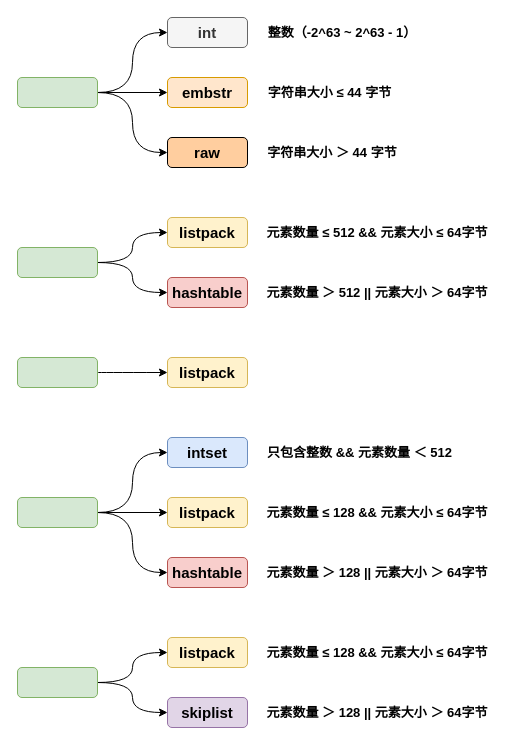
Some shapes in this 510 by 745 pixel diagram are drawn without their labels. The centre of each missing label's shape, as x and y in pixels:
"列表" belongs at point (57, 372).
"哈希" belongs at point (57, 262).
"字符串" belongs at point (57, 92).
"有序集合" belongs at point (57, 682).
"集合" belongs at point (57, 512).
